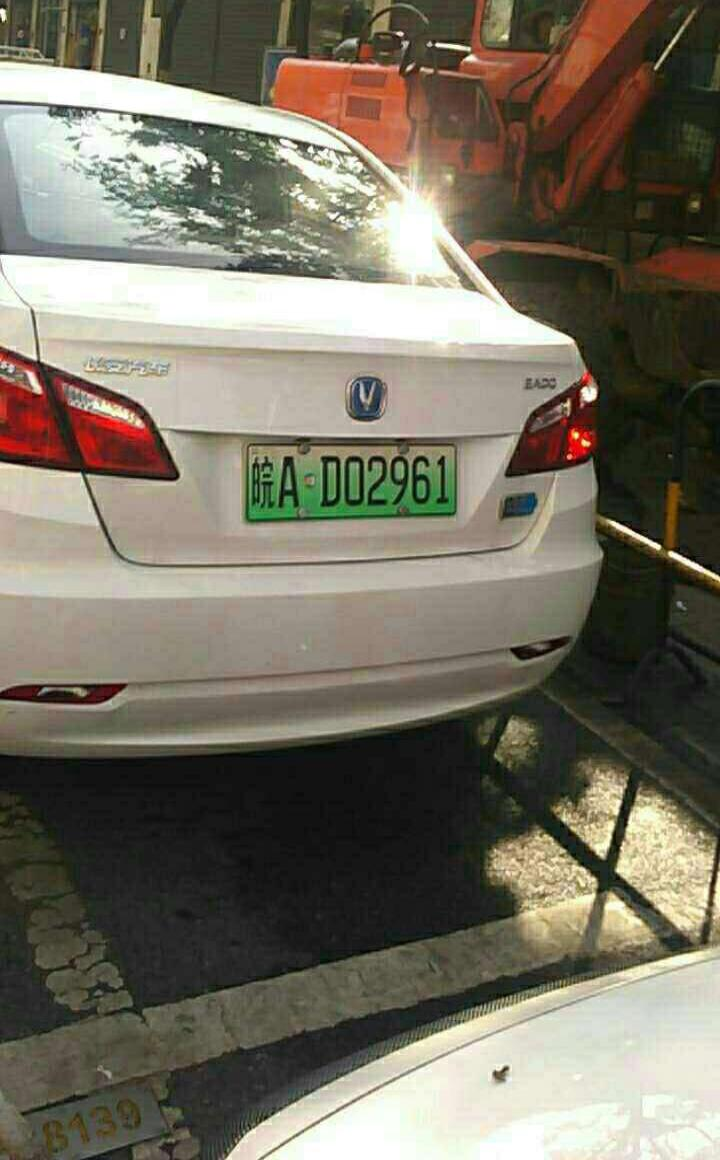car_id: (247, 444, 453, 522)
